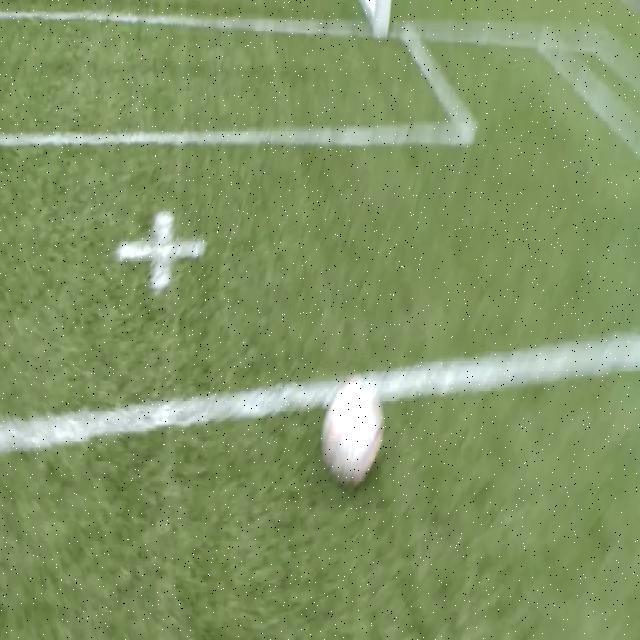ball: (322, 375, 384, 488)
goalpost: (361, 0, 394, 45)
